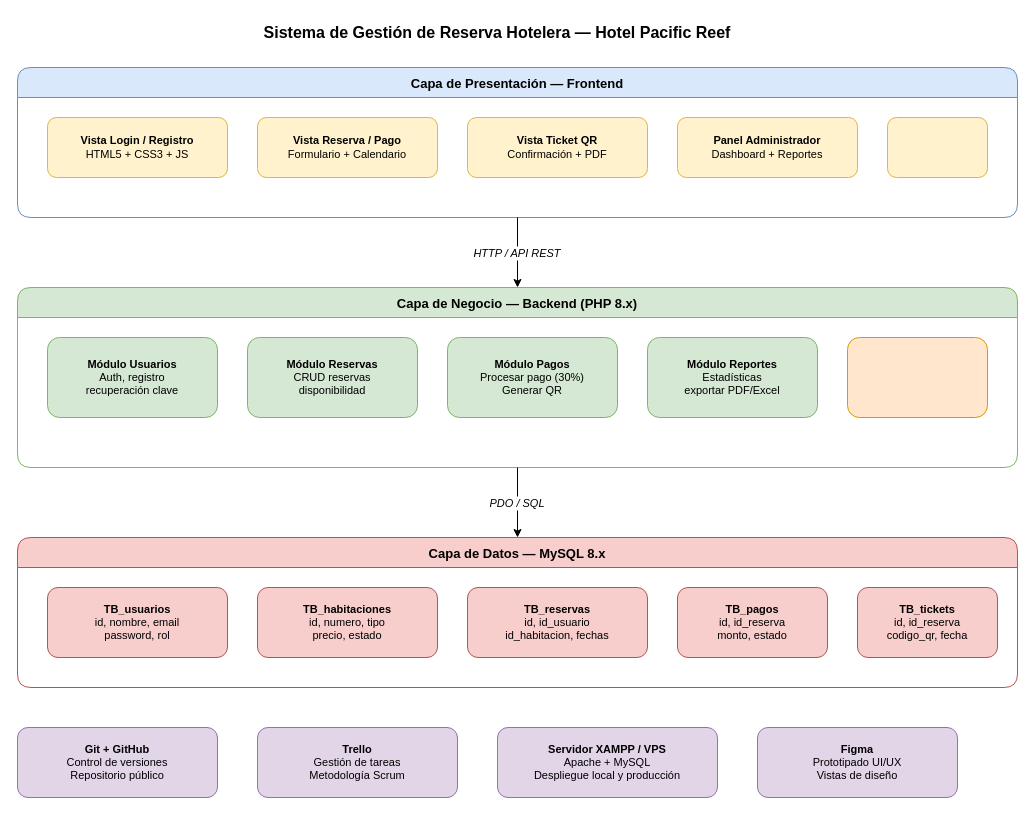
Some shapes in this 1035 by 815 pixel diagram are drawn without their labels. Here are the shapes that lost their labels. From the top down, the centre of each, then its label:
At (937,147): "Vista Perfil / Catálogo Edición de datos".
At (917,377): "Servicio SMTP PHPMailer Gmail/Hostinger".
